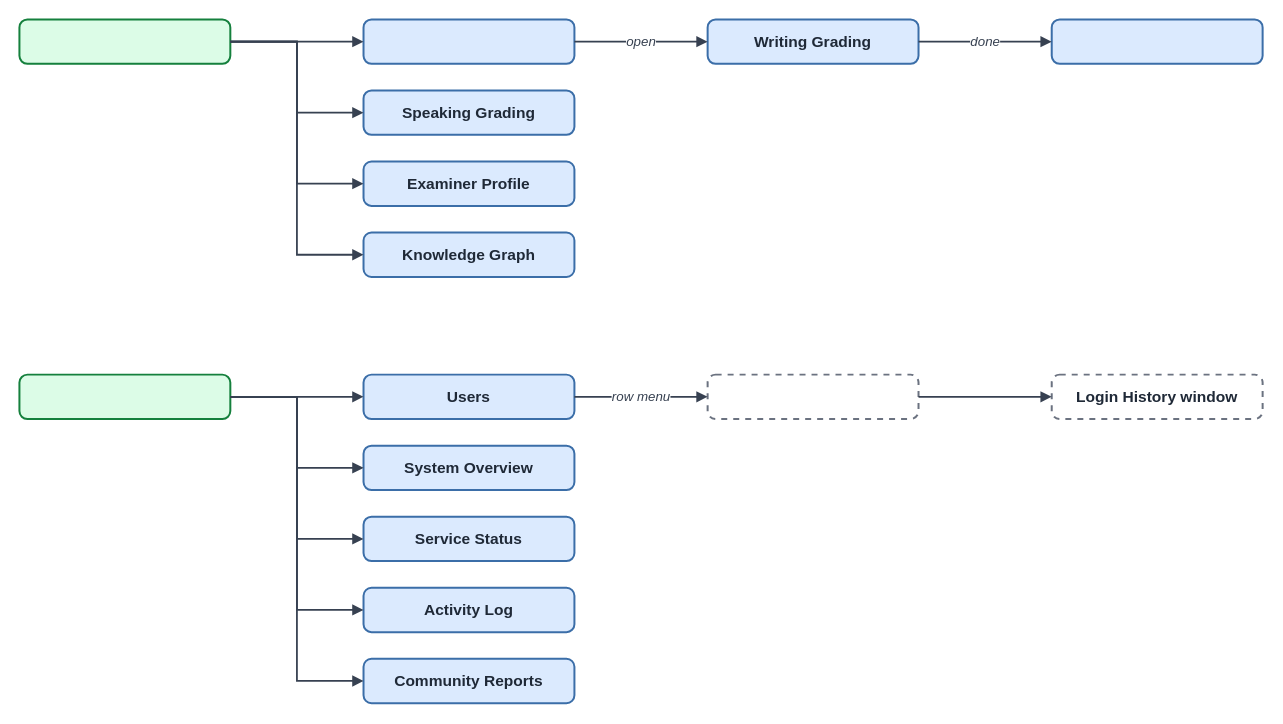
The diagram is 1283 pixels wide and 724 high, and some of its shapes have lost their labels. Here are the shapes that lost their labels. From the top down, the centre of each, then its label:
the point at 124,41: Examiner Dashboard
the point at 468,41: Writing Queue
the point at 1156,41: Graded Review
the point at 124,396: Administrator Home
the point at 812,396: User actions window
